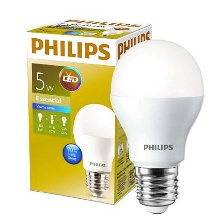carton: (21, 16, 155, 208)
light_bulb: (106, 31, 208, 218)
